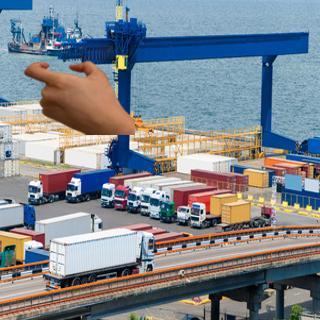HATE: (21, 56, 124, 132)
